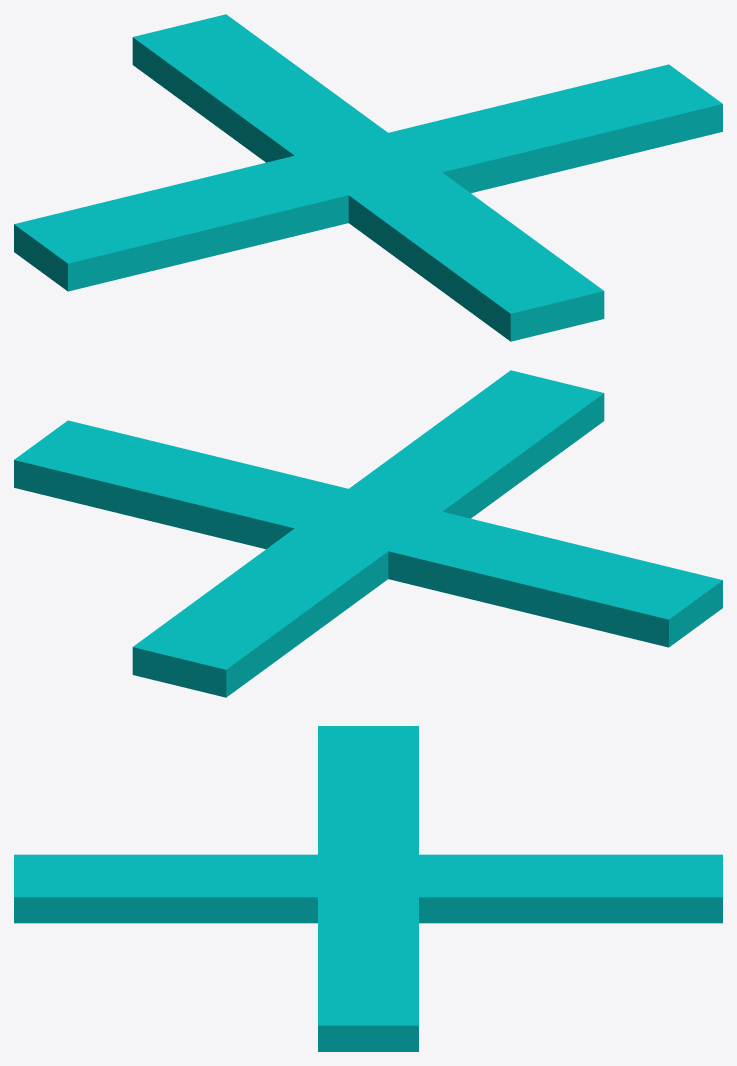
Rendered from 10fieldSkyblue.obj.
3 views of the same model, one above another, from view 1: azimuth 30°, elevation 25°; view 2: azimuth 150°, elevation 25°; view 3: azimuth 270°, elevation 25° (orthographic). The views are drawn at different scales.
Visible parts, largest first — view 1: 立方体, 立方体.001; view 2: 立方体, 立方体.001; view 3: 立方体.001, 立方体.
Boxes of the visible parts, <box> form: 立方体: <box>14,64,722,291</box>; 立方体.001: <box>132,14,604,341</box>; 立方体: <box>14,420,722,647</box>; 立方体.001: <box>132,370,604,697</box>; 立方体.001: <box>14,854,722,923</box>; 立方体: <box>318,726,418,1051</box>.
Size of the model in its own units: 7.22 by 0.2936 by 7.22.
